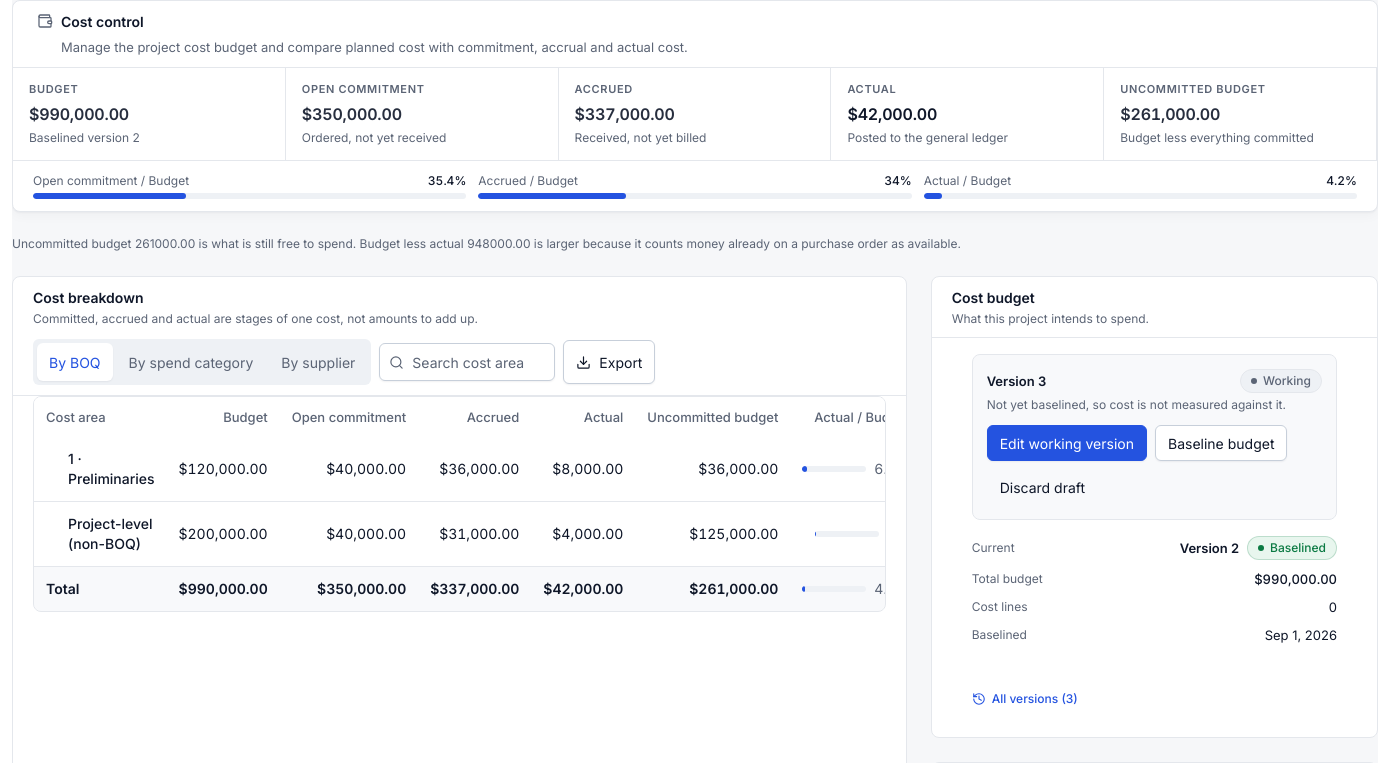
Test: CostControlView › loads the working version’s own lines before its table opens for editing
Click the button "Edit working version": (1067, 443) x1=987 y1=425 x2=1147 y2=461
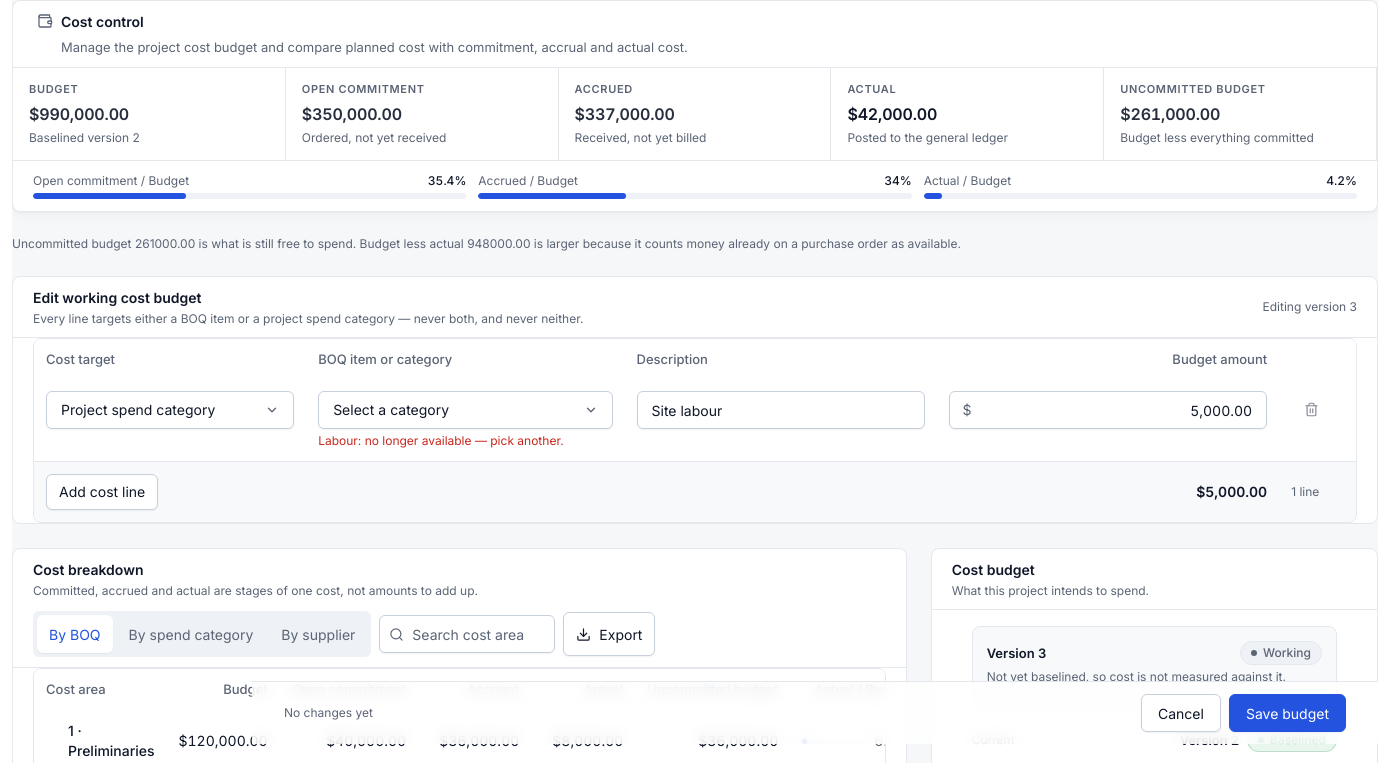
Expected: the heading "Edit working cost budget" is shown, x1=33 y1=289 x2=202 y2=306
Expected: the field named "Description, line 1" holds "Site labour", x1=636 y1=391 x2=924 y2=429
